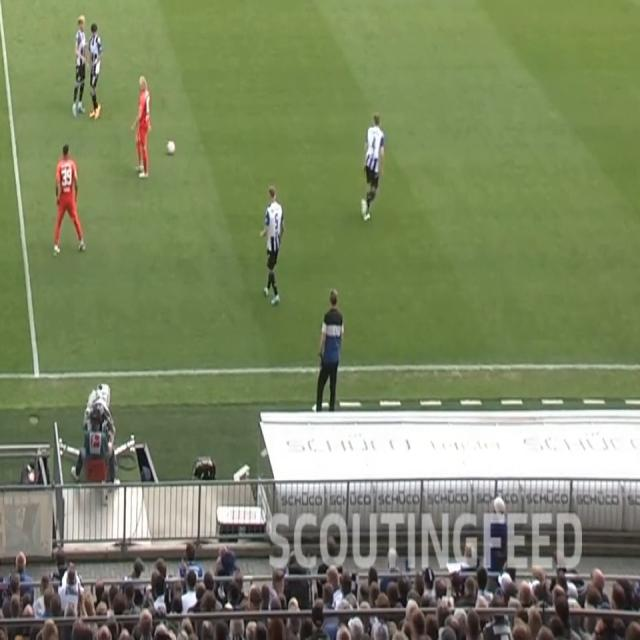ball: (164, 139, 176, 157)
